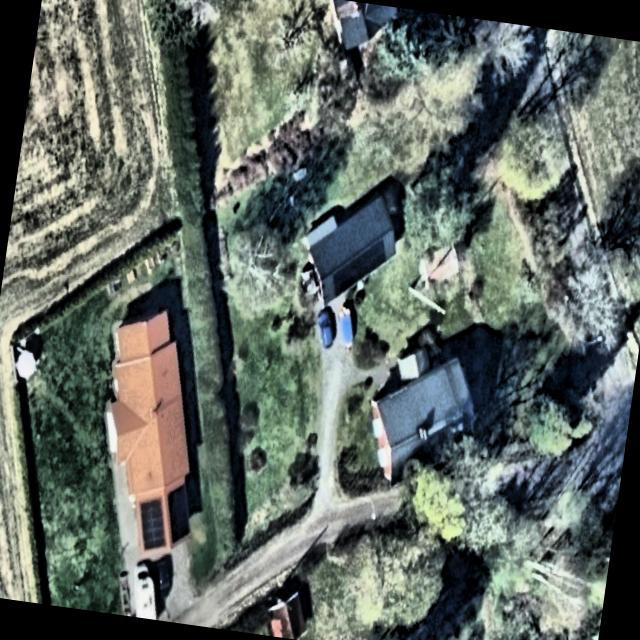roof_pv: (132, 492, 172, 555), (161, 480, 196, 544), (331, 253, 362, 300), (360, 240, 388, 284)
